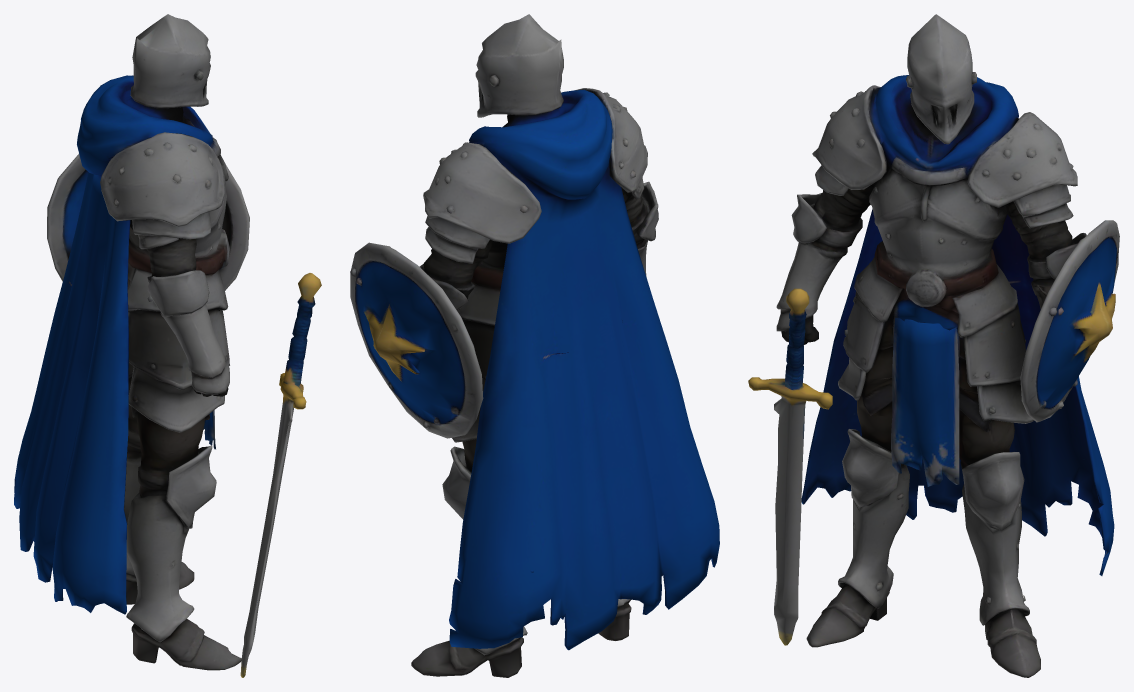
3 views of the same model, side by side, from view 1: azimuth 30°, elevation 25°; view 2: azimuth 150°, elevation 25°; view 3: azimuth 270°, elevation 25° (orthographic). The views are drawn at different scales.
Visible parts, largest first — view 1: tripo_node_2b7194d1-ab28-4f98-90b7-5776848db1c8; view 2: tripo_node_2b7194d1-ab28-4f98-90b7-5776848db1c8; view 3: tripo_node_2b7194d1-ab28-4f98-90b7-5776848db1c8.
Part boxes in pixels (x1=…): tripo_node_2b7194d1-ab28-4f98-90b7-5776848db1c8: x1=14, y1=14, x2=321, y2=677; tripo_node_2b7194d1-ab28-4f98-90b7-5776848db1c8: x1=350, y1=14, x2=719, y2=677; tripo_node_2b7194d1-ab28-4f98-90b7-5776848db1c8: x1=748, y1=14, x2=1119, y2=677.
Bounding box in the file's own units: 0.4579 × 1 × 0.5342.
1 material, 1 textured.
